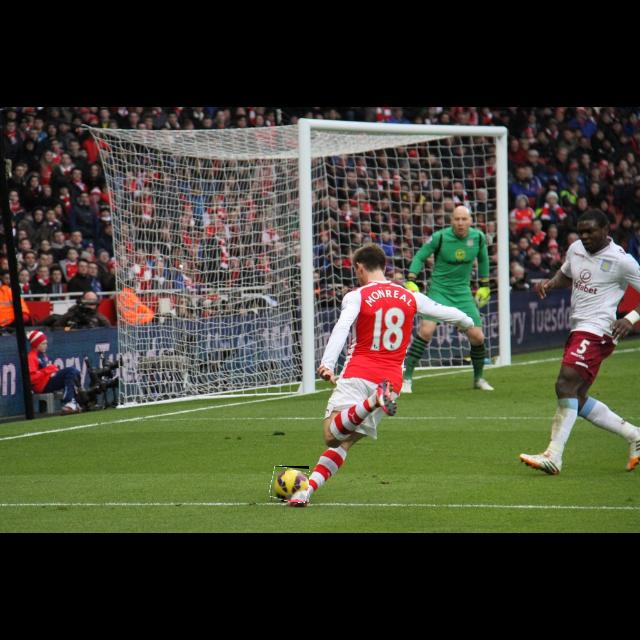Football: (271, 466, 309, 502)
